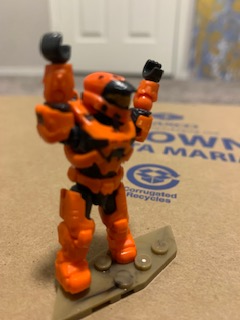spartan: (29, 29, 164, 296)
up: (33, 31, 164, 177)
